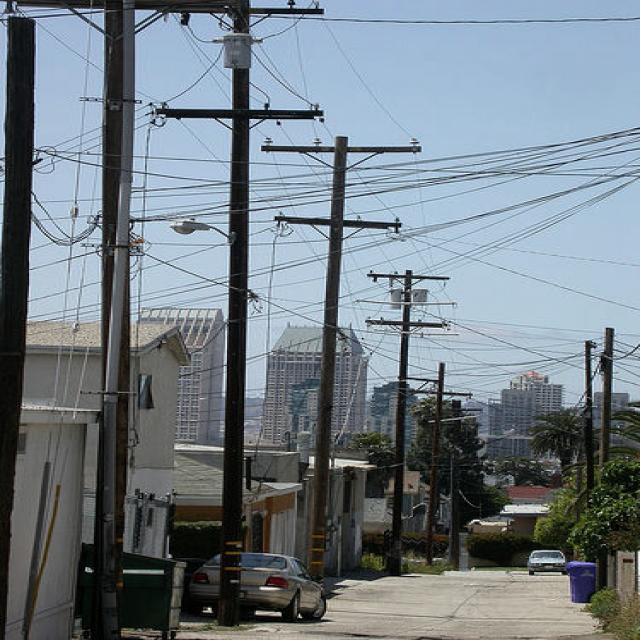crossarm: (273, 209, 403, 238), (150, 104, 326, 125), (265, 137, 423, 156)
pole: (96, 6, 135, 634), (220, 5, 254, 626), (312, 136, 352, 591)
wire: (350, 168, 636, 250), (338, 13, 637, 29)
